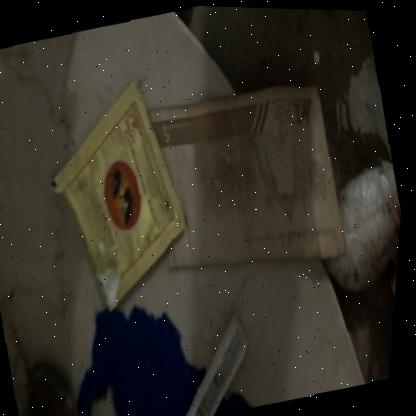five-back-vef: (135, 70, 361, 292)
